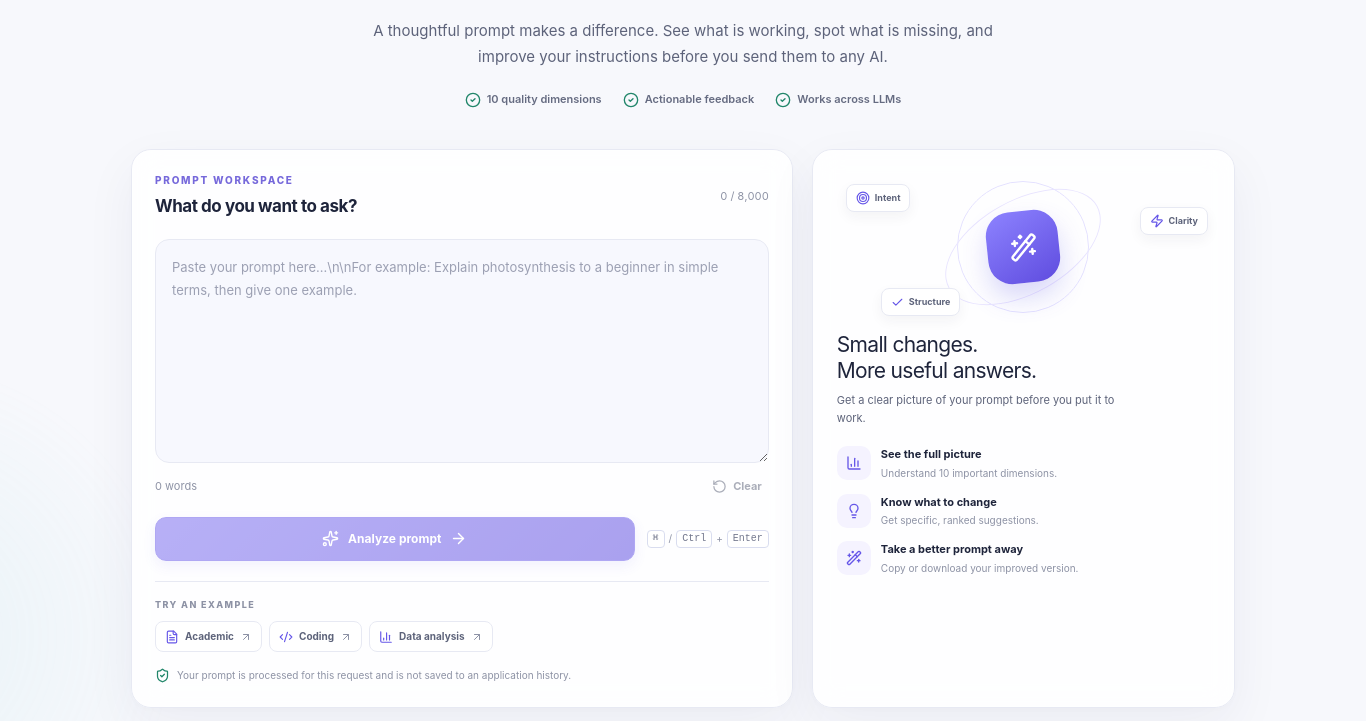
Test: Loading and clipboard interactions › shows the loading label while analysis is pending
The image size is (1366, 721).
(page scrolled)
Replace the text in the text box named "enter the prompt" with "Explain photosynthesis": (462, 351) x1=155 y1=239 x2=769 y2=463
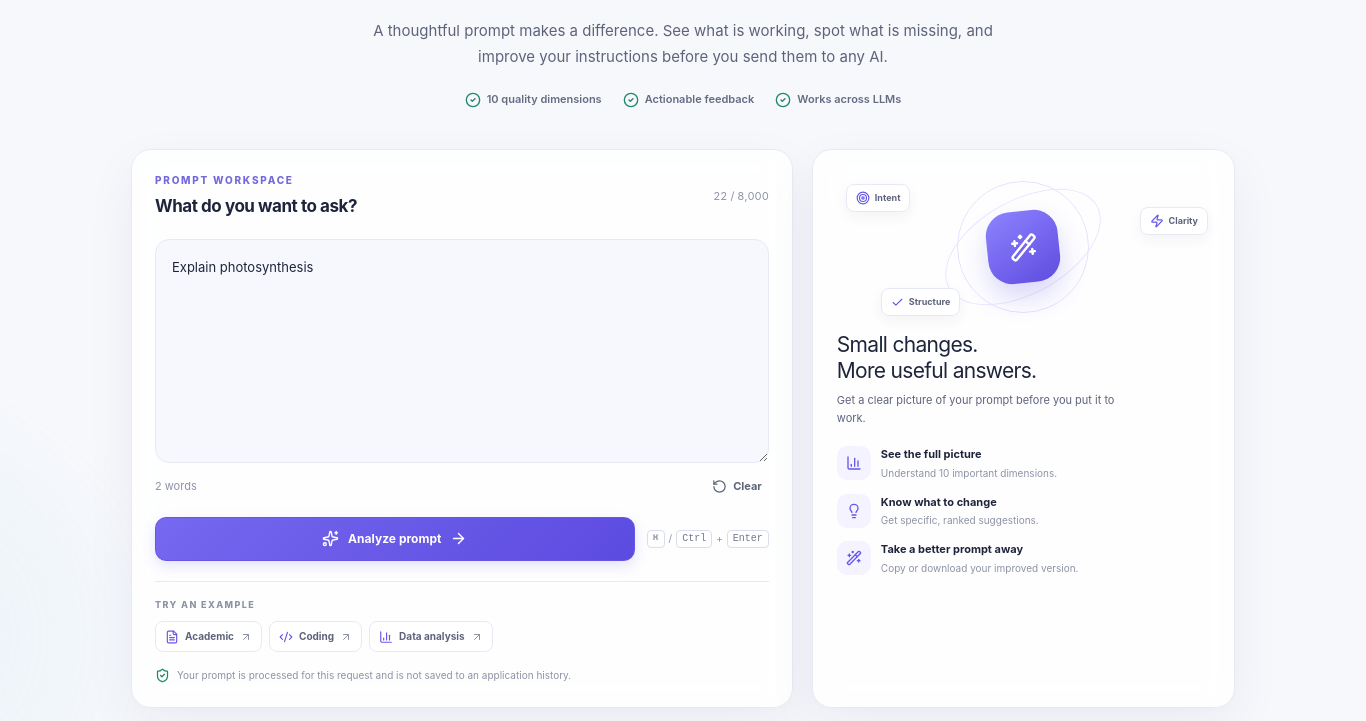
Click the button "Analyze prompt": (395, 539) x1=155 y1=517 x2=634 y2=561
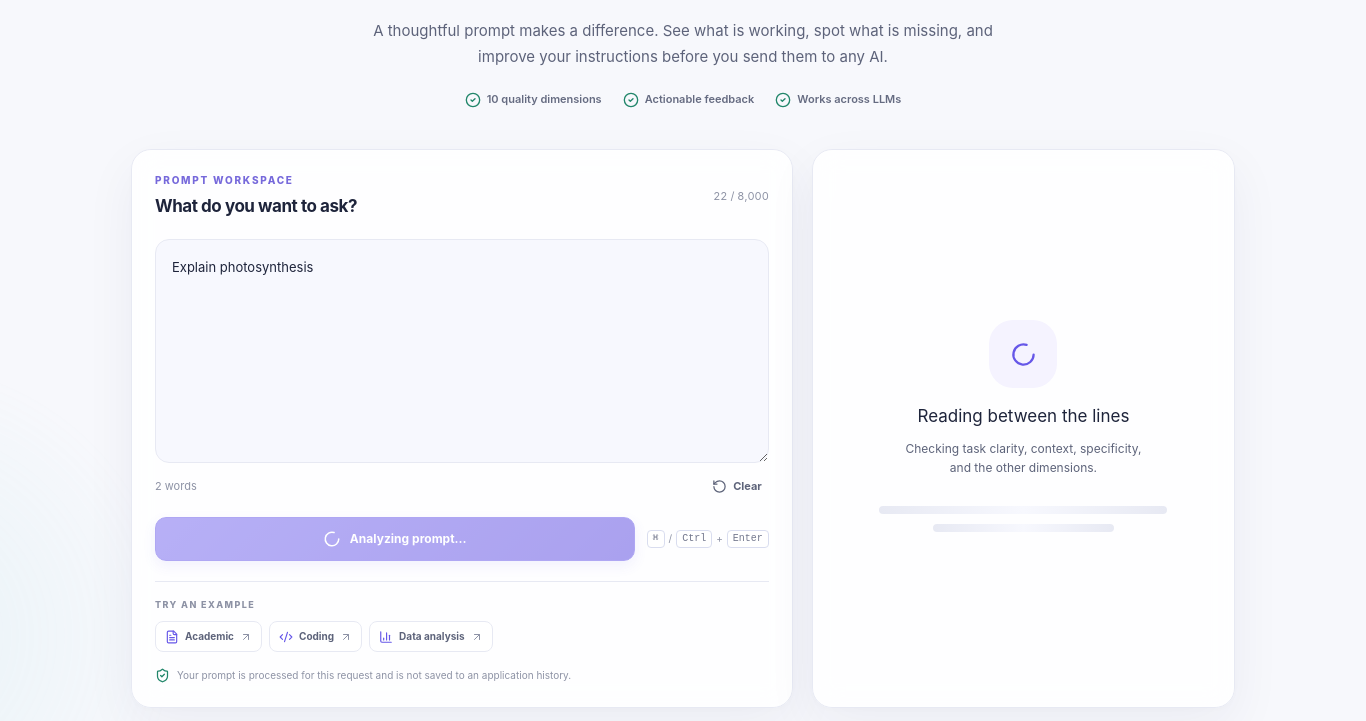
Now the button "Analyzing prompt…" is disabled, box x1=155 y1=517 x2=634 y2=561
